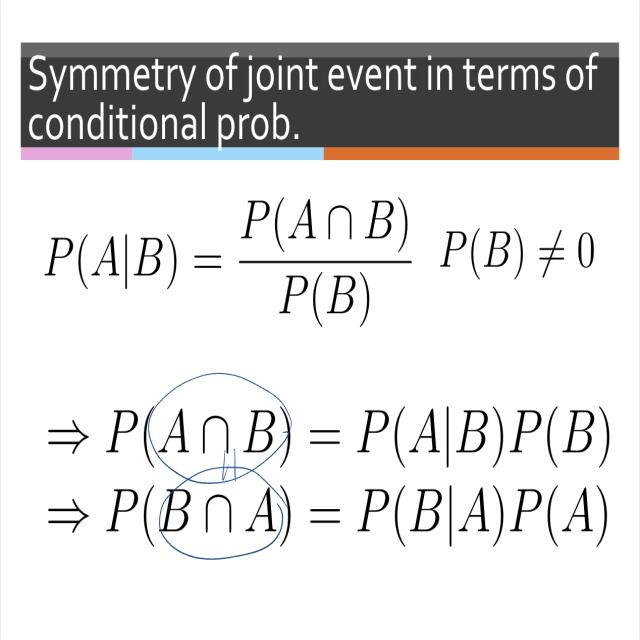equations: (25, 179, 419, 335), (101, 480, 615, 562), (104, 392, 614, 472), (437, 217, 603, 293)
